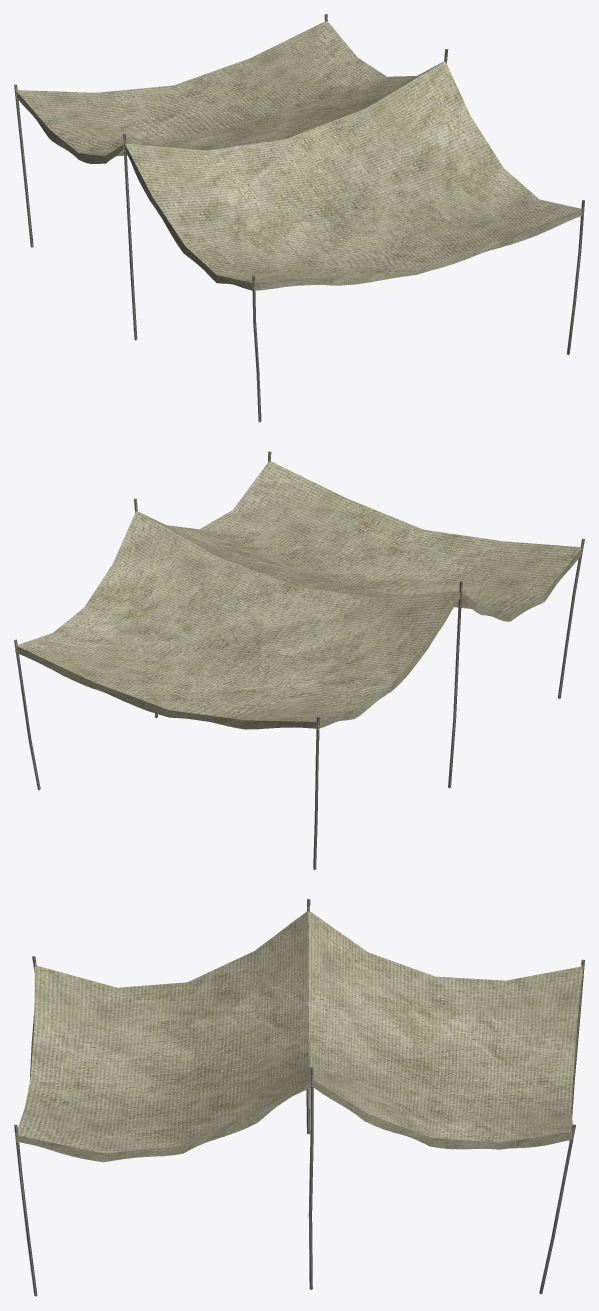
The model's file is poi_corl_tent_med_l1.fbx.
3 renders of one model, top to bottom at view 1: azimuth 30°, elevation 25°; view 2: azimuth 150°, elevation 25°; view 3: azimuth 270°, elevation 25°, orthographic. The views are drawn at different scales.
Visible parts, largest first — view 1: mesh_node; view 2: mesh_node; view 3: mesh_node.
Boxes of the visible parts, bbox=[...] form: mesh_node: bbox=[14, 14, 584, 422]; mesh_node: bbox=[14, 451, 584, 870]; mesh_node: bbox=[14, 899, 584, 1296].
Bounding box in the file's own units: 6.53 × 4.07 × 9.03.
